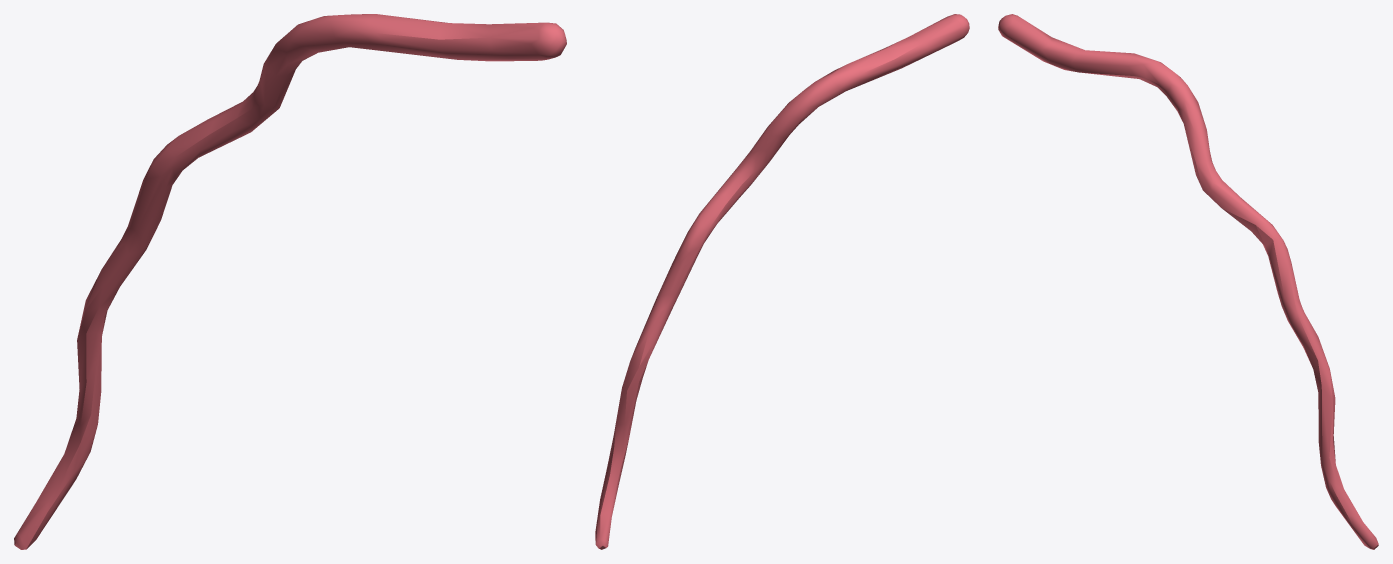
File: fma3860_fj2633.glb
3 views of the same model, side by side, from view 1: azimuth 90°, elevation 25°; view 2: azimuth 150°, elevation 25°; view 3: azimuth 270°, elevation 25° (orthographic). The views are drawn at different scales.
Visible parts, largest first — view 1: FMA3860_FJ2633; view 2: FMA3860_FJ2633; view 3: FMA3860_FJ2633.
Boxes of the visible parts, x1,y1,x2,y2 form: FMA3860_FJ2633: (14, 14, 566, 549); FMA3860_FJ2633: (595, 14, 969, 549); FMA3860_FJ2633: (998, 14, 1378, 549).
Size of the model in its own units: 0.0125 by 0.0265 by 0.0204.
